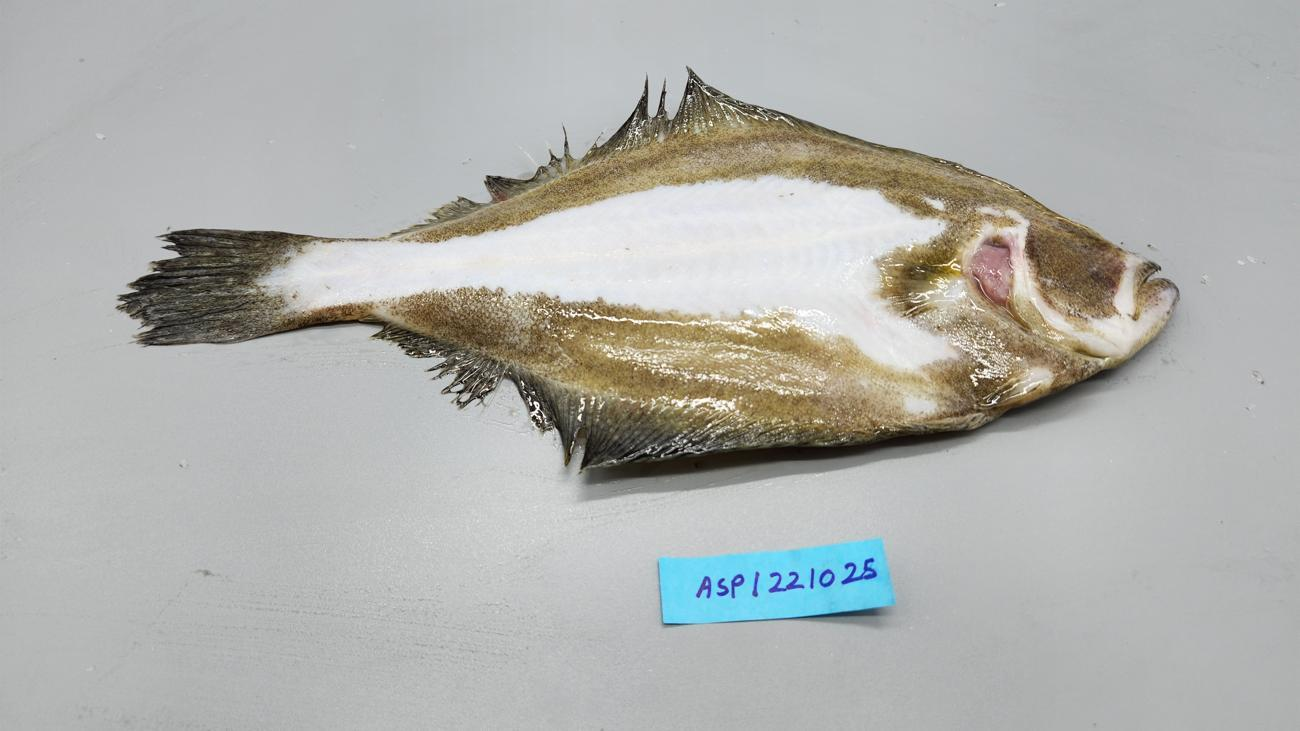SPDYH: (819, 340, 901, 431)
SPOUY: (104, 54, 1188, 488)
